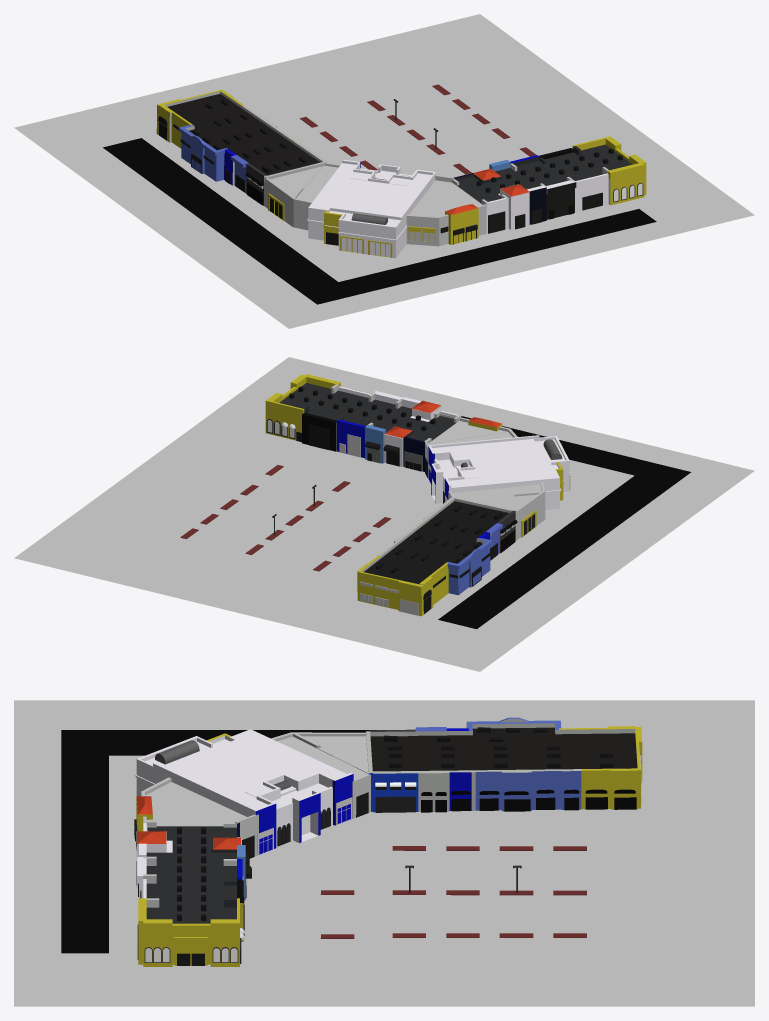
File: GrandCanyonPark2.obj
The picture shows the model from 3 angles, top to bottom: view 1: azimuth 30°, elevation 25°; view 2: azimuth 150°, elevation 25°; view 3: azimuth 270°, elevation 25°; orthographic projection. The views are drawn at different scales.
Parts seen in each view (by area): view 1: Plane, Plane.006_Plane.007, Cube, Cube.004, Cube.003_Cube.001, Plane.004_Plane.005, Plane.005_Plane.006, Plane.003_Plane.004, Plane.002_Plane.003, Cube.002_Cube.003, Cube.005, Cube.006 (+3 smaller); view 2: Plane, Plane.006_Plane.007, Cube.004, Cube, Cube.003_Cube.001, Plane.005_Plane.006, Plane.002_Plane.003, Plane.004_Plane.005, Plane.003_Plane.004, Plane.001_Plane.002, Cube.005, Cube.001_Cube.002 (+1 smaller); view 3: Plane, Cube.004, Cube.003_Cube.001, Plane.006_Plane.007, Cube, Plane.005_Plane.006, Plane.004_Plane.005, Plane.003_Plane.004, Plane.002_Plane.003, Plane.001_Plane.002, Cube.002_Cube.003, Cube.005 (+8 smaller).
Part boxes in pixels (x1,y1,x2,y2): Plane: (14, 14, 754, 328); Plane.006_Plane.007: (103, 138, 656, 304); Cube: (454, 136, 646, 233); Cube.004: (156, 89, 327, 205); Cube.003_Cube.001: (307, 159, 435, 258); Plane.004_Plane.005: (309, 94, 488, 146); Plane.005_Plane.006: (289, 80, 469, 132); Plane.003_Plane.004: (328, 108, 508, 160); Plane.002_Plane.003: (355, 123, 528, 170); Cube.002_Cube.003: (406, 175, 453, 246); Cube.005: (264, 166, 322, 227); Cube.006: (293, 163, 340, 230); Plane: (14, 357, 754, 671); Plane.006_Plane.007: (438, 416, 691, 629); Cube.004: (357, 497, 516, 616); Cube: (265, 374, 461, 471); Cube.003_Cube.001: (428, 435, 570, 509); Plane.005_Plane.006: (163, 522, 343, 574); Plane.002_Plane.003: (222, 479, 402, 531); Plane.004_Plane.005: (183, 508, 363, 560); Plane.003_Plane.004: (202, 493, 382, 546); Plane.001_Plane.002: (255, 461, 361, 495); Cube.005: (467, 491, 545, 540); Cube.001_Cube.002: (428, 413, 510, 444); Plane: (14, 700, 754, 1006); Cube.004: (366, 717, 642, 812); Cube.003_Cube.001: (135, 729, 353, 854); Plane.006_Plane.007: (61, 730, 377, 953); Cube: (136, 822, 245, 966); Plane.005_Plane.006: (543, 840, 591, 948); Plane.004_Plane.005: (490, 840, 538, 948); Plane.003_Plane.004: (438, 840, 485, 948); Plane.002_Plane.003: (384, 840, 431, 948); Plane.001_Plane.002: (313, 885, 360, 944); Cube.002_Cube.003: (140, 777, 258, 856); Cube.005: (290, 732, 407, 773).
Bounding box in the file's own units: 95.47 × 7.39 × 97.53.
